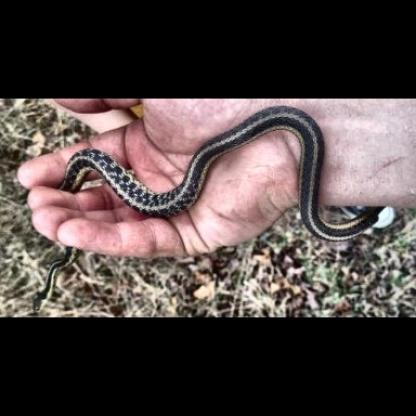Snake: (66, 112, 394, 240)
